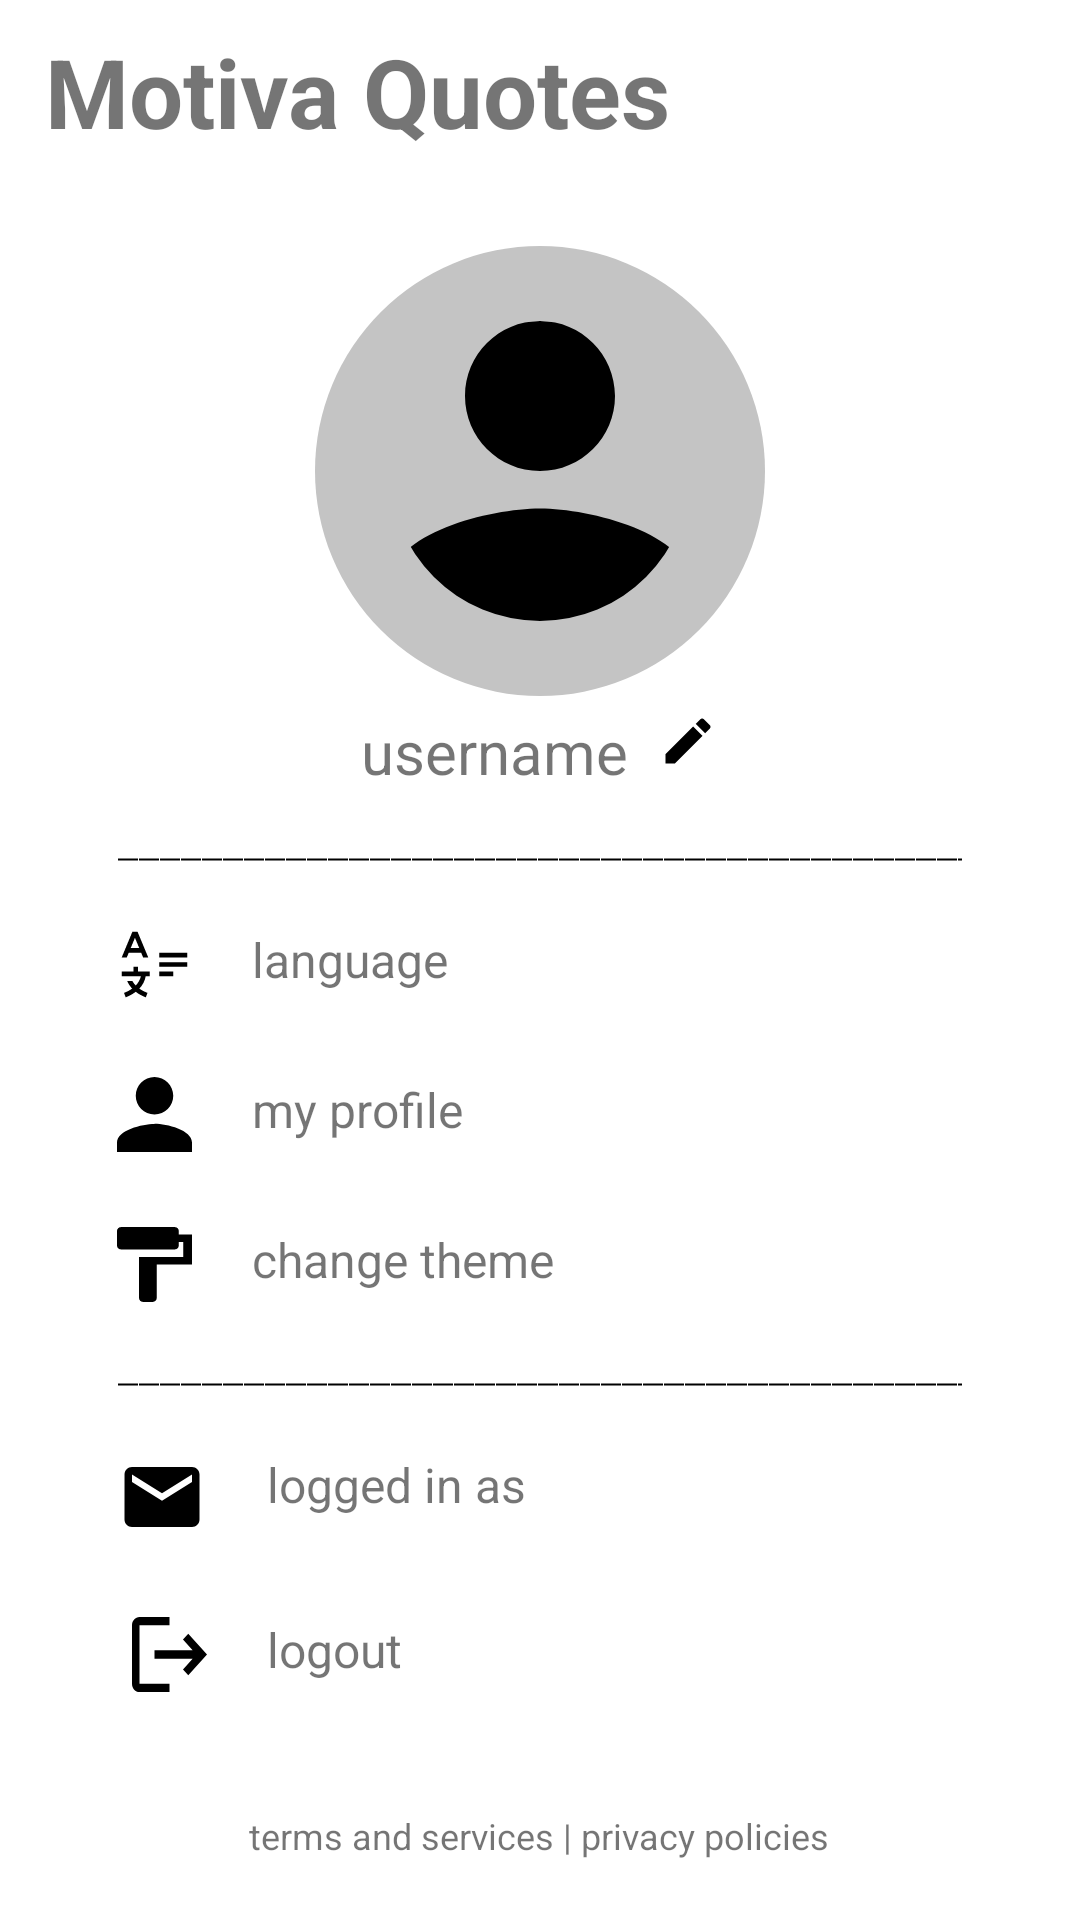

Named icons in this screenshot (1080px x 1920px) and their centers, [x,y]:
edit: [688,741]
mail: [162,1497]
